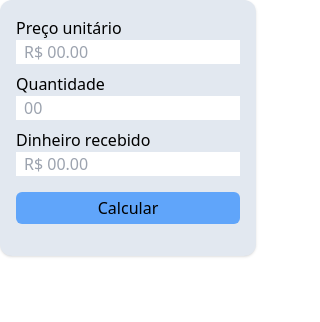
Test: Exercises 4: Grocery Cashier › must show that there is no money
In the field labelled "Preço unitário": point(128, 52) x1=16 y1=40 x2=240 y2=64, type "10"
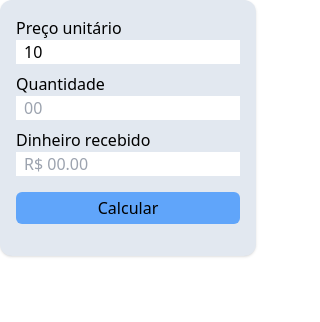
In the field with id "amount": point(128, 108) x1=16 y1=96 x2=240 y2=120, type "2"
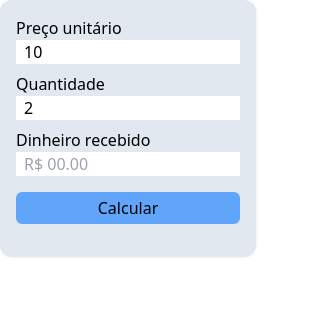
In the field labelled "Dinheiro recebido": point(128, 164) x1=16 y1=152 x2=240 y2=176, type "18"
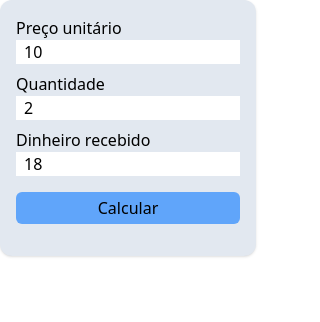
Click the button "Calcular": point(128, 208) x1=16 y1=192 x2=240 y2=224
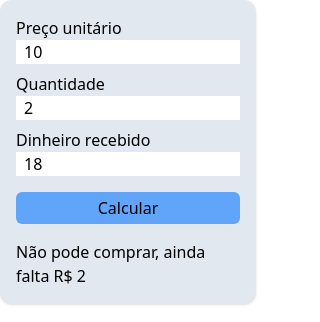
Result: the text with id "showMessage" reads "Não pode comprar, ainda falta R$ 2" at x1=16 y1=241 x2=205 y2=287
